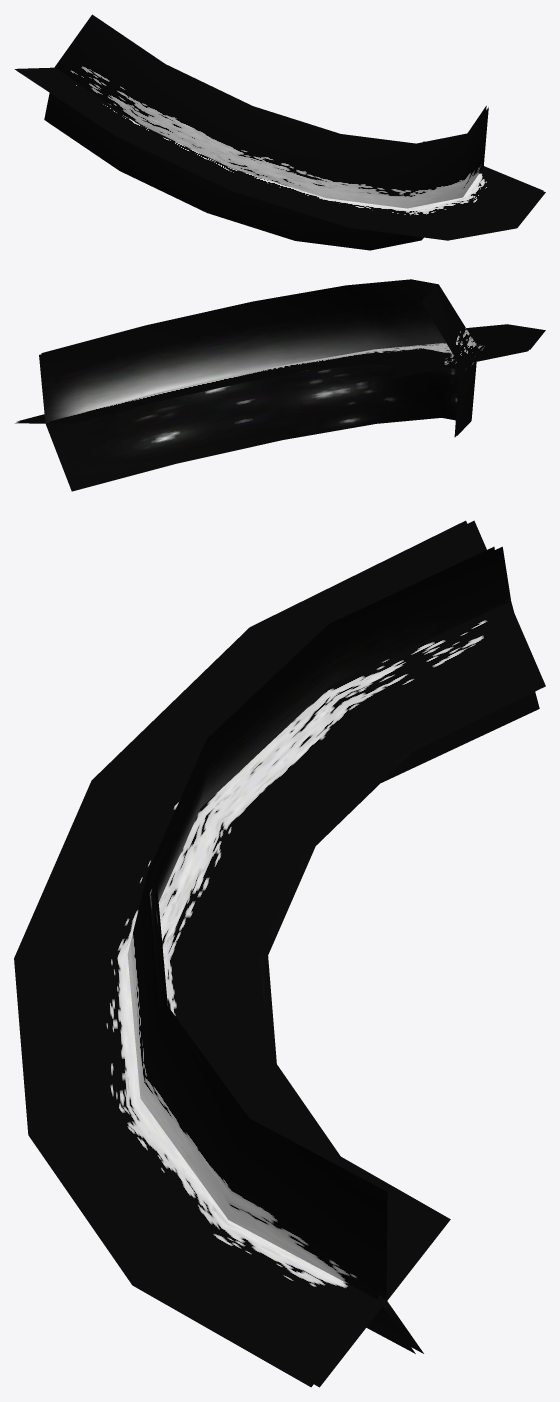
Rendered from Effect_1061_4attack_S #041023.fbx.
3 views of the same model, one above another, from view 1: azimuth 30°, elevation 25°; view 2: azimuth 150°, elevation 25°; view 3: azimuth 270°, elevation 25° (orthographic). The views are drawn at different scales.
Visible parts, largest first — view 1: Sphere002 Instance (1), Sphere002 Instance; view 2: Sphere002 Instance (2), Sphere002 Instance, Sphere002 Instance (1); view 3: Sphere002 Instance (1), Sphere002 Instance (2), Sphere002 Instance.
Part boxes in pixels (box(x1,y1,x2,y2)): Sphere002 Instance (1): box(17, 16, 545, 250); Sphere002 Instance: box(14, 24, 543, 190); Sphere002 Instance (2): box(29, 281, 461, 437); Sphere002 Instance: box(15, 285, 528, 491); Sphere002 Instance (1): box(17, 279, 545, 435); Sphere002 Instance (1): box(14, 520, 537, 1387); Sphere002 Instance (2): box(156, 556, 510, 1353); Sphere002 Instance: box(150, 520, 545, 1387).
Bounding box in the file's own units: 9.75 × 4.96 × 4.77.
3 materials, 3 textured.
